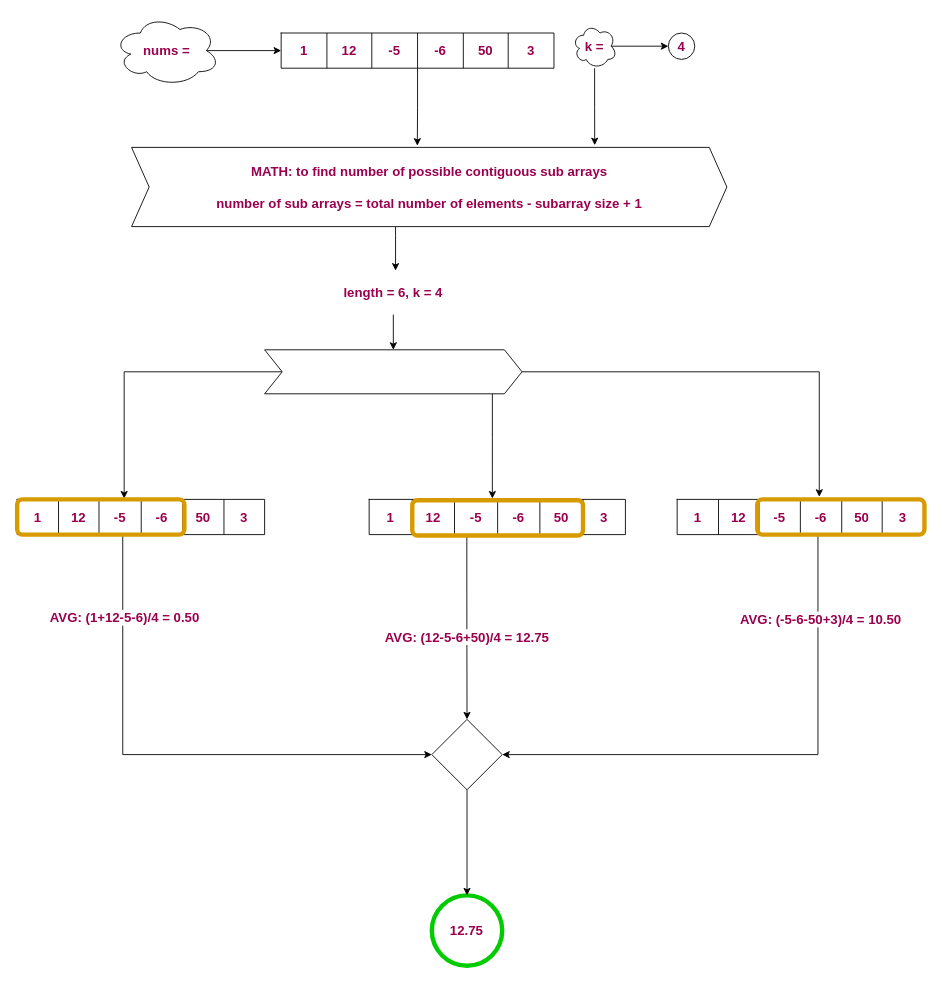
This 942x983 diagram has some shape labels left out. The centre of each missing label's shape, as x and y in pixels:
Is Max?: the point at 466,754
number of sub arrays = 6 - 4 + 1 = 3: the point at 393,371
